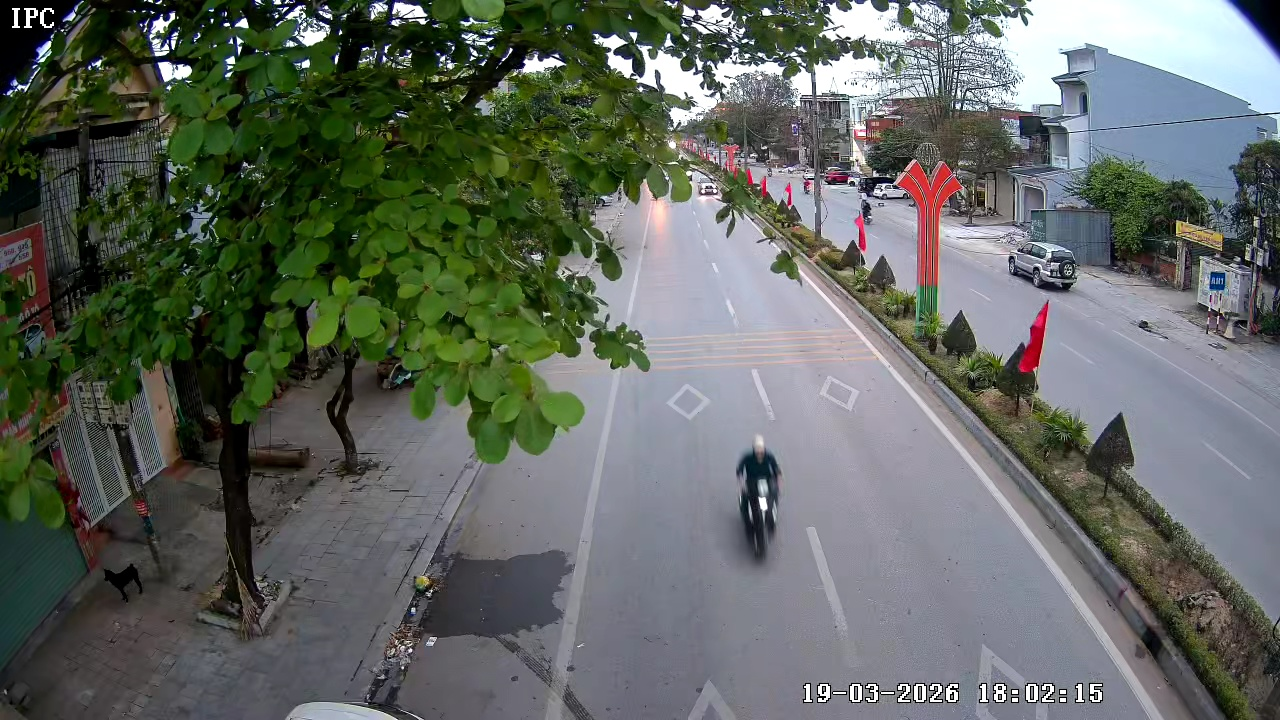bus: (1052, 41, 1098, 85)
car: (1007, 239, 1080, 292)
motorbike: (30, 0, 154, 82), (732, 434, 785, 562)
